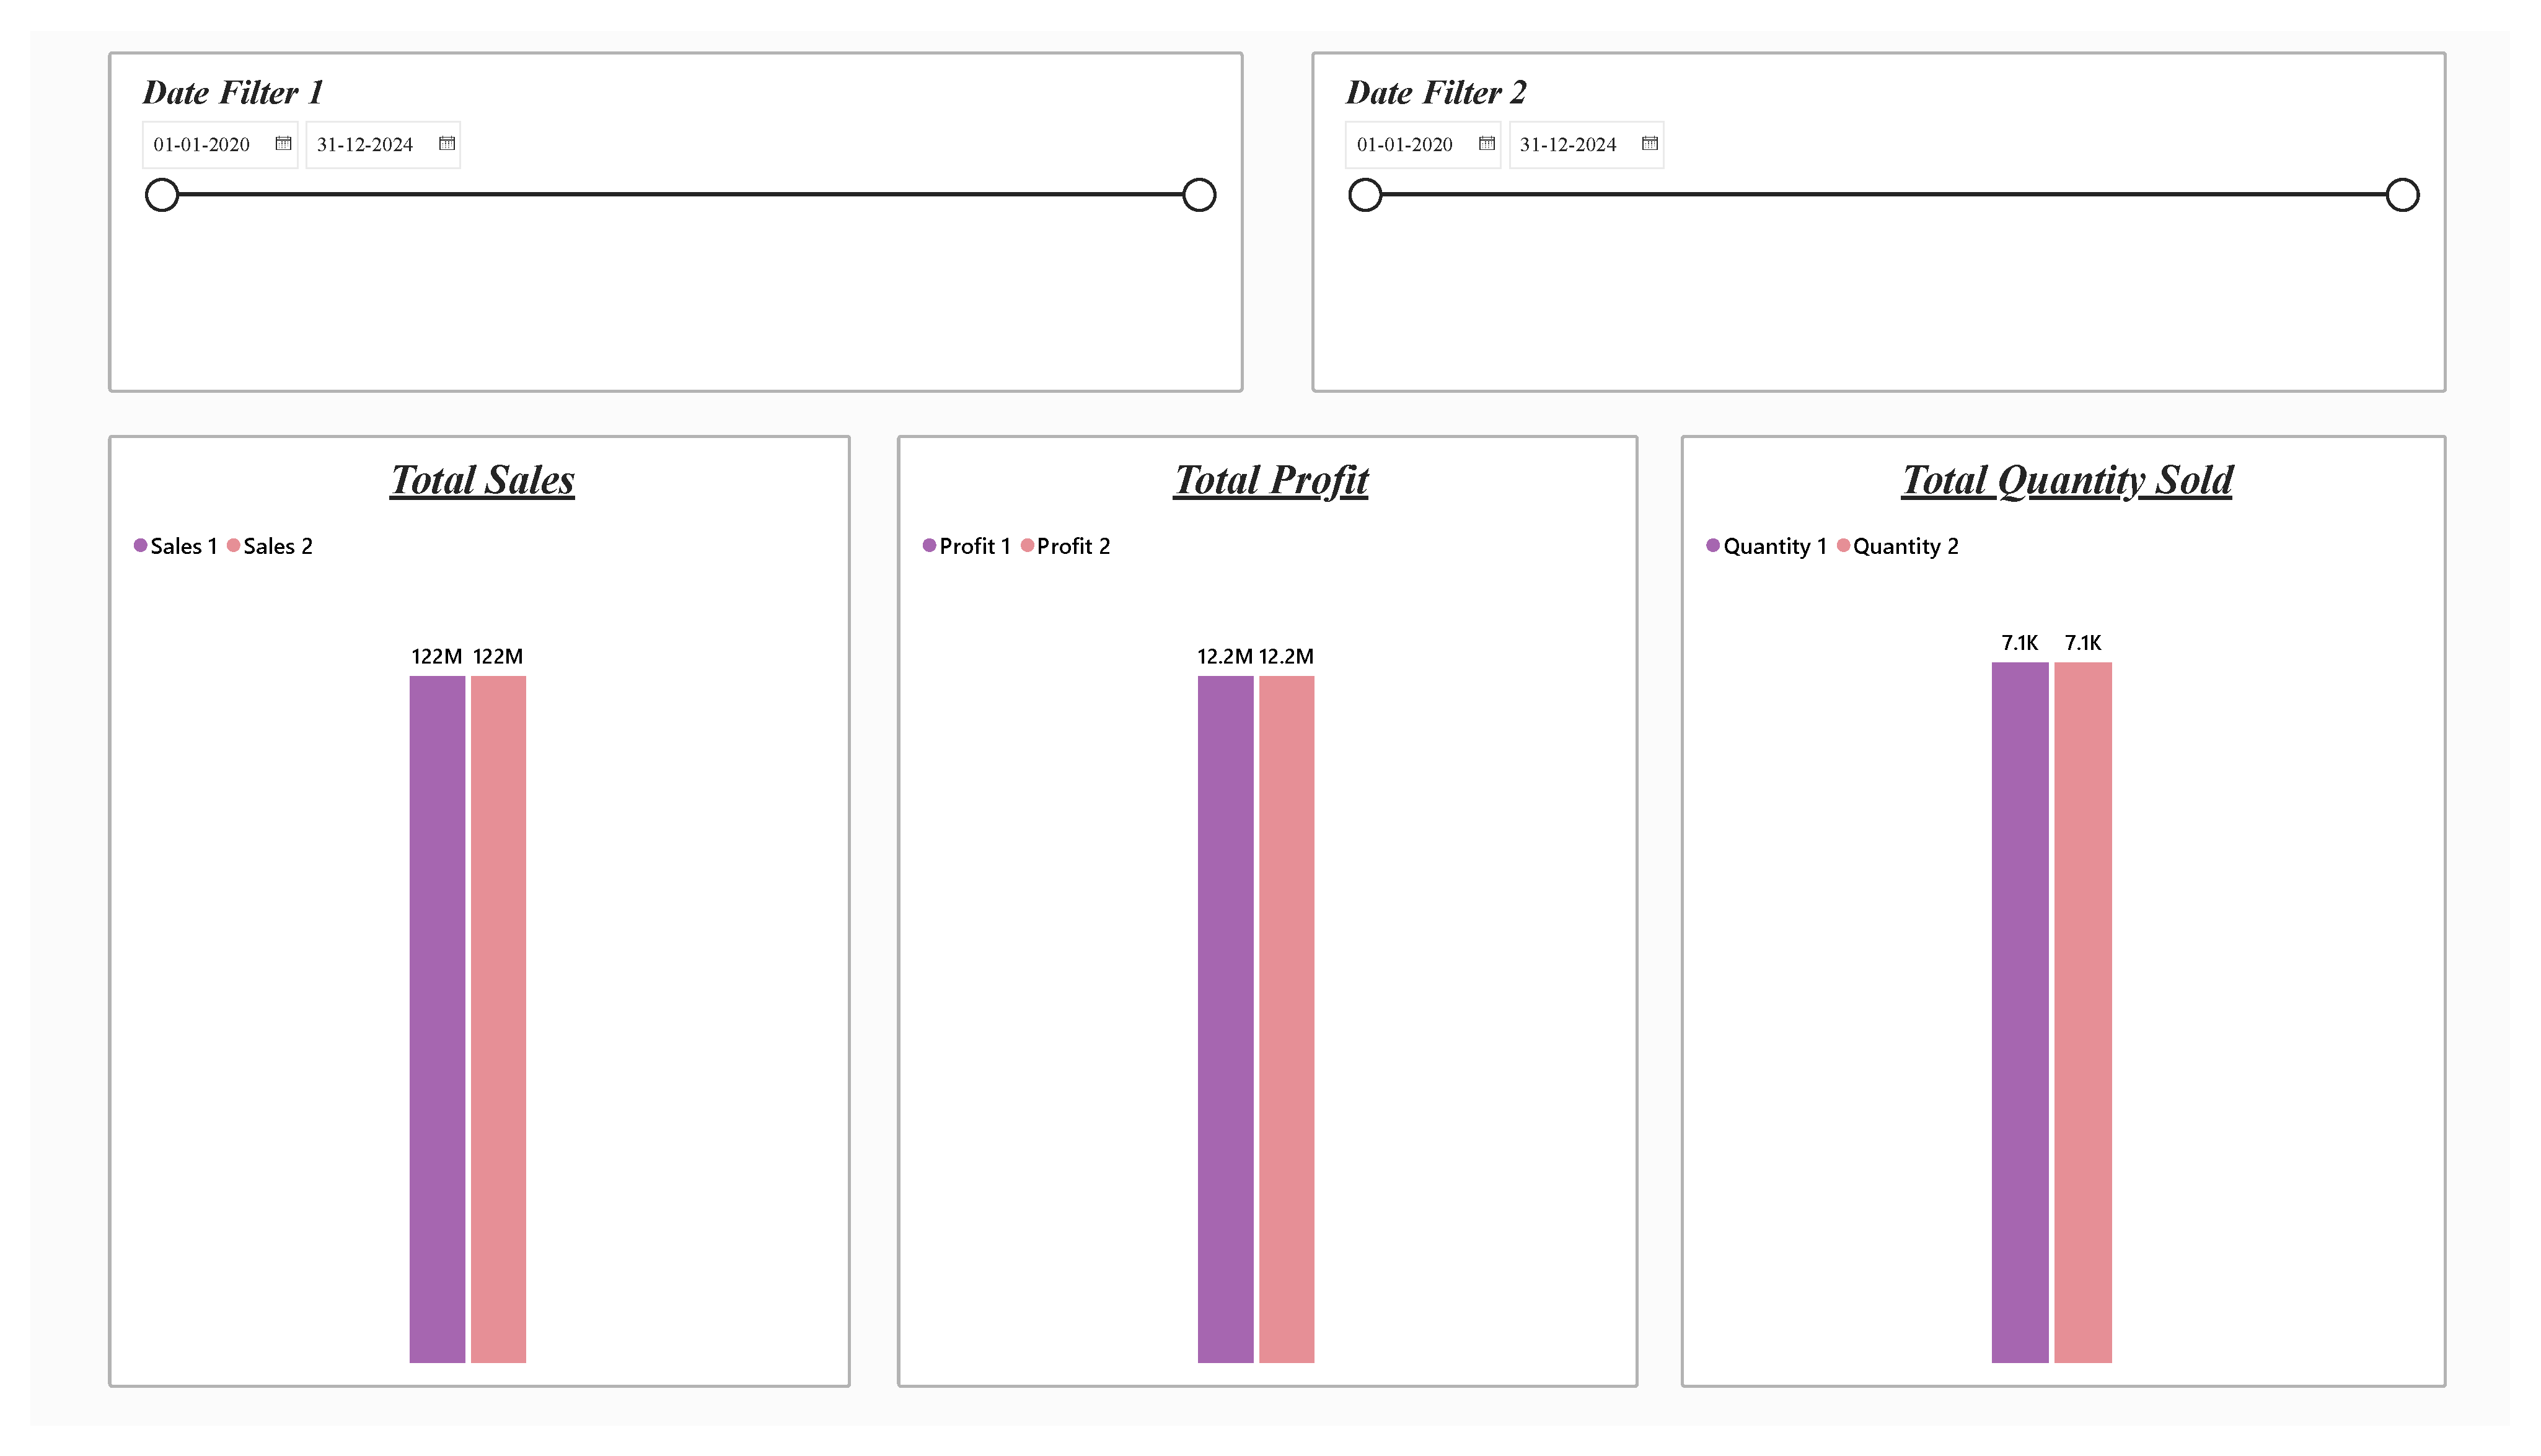

Layout of this report page (visuals, bound fields, positions):
{"tool":"powerbi","page":{"name":"Comparison Sales/Profit/Quantity","canvas":[1920,1080],"ordinal":2},"visuals":[{"type":"slicer","fields":{"Values":["Date Table 1.Date"]},"box":[59.7,16.3,879.5,264.2],"z":0},{"type":"slicer","fields":{"Values":["Date Table 2.Date"]},"box":[991.7,16.3,879.5,264.2],"z":1000},{"type":"clusteredColumnChart","title":"Total Sales","fields":{"Y":["Sum(Fact Table.Net Sales)","Measures Table.Sum of Net Sales"]},"box":[59.7,313.1,575.5,738.3],"z":2000},{"type":"clusteredColumnChart","title":"Total Profit","fields":{"Y":["Sum(Fact Table.Profit)","Measures Table.Total Profit"]},"box":[671.4,313.1,573.7,738.3],"z":3000},{"type":"clusteredColumnChart","title":"Total Quantity Sold","fields":{"Y":["Sum(Fact Table.Units Sold)","Measures Table.Quantity Sold"]},"box":[1277.6,313.1,593.6,738.3],"z":4000}]}

Visuals, with their boxes on the page's 1920x1080 design canvas (x1, y1, x2, y2). These are canvas units, not pixel positions in the 2541x1456 screenshot, which may show the page scaled, cropped or inside an application window:
slicer - Date Table 1.Date: [60, 16, 939, 280]
slicer - Date Table 2.Date: [992, 16, 1871, 280]
"Total Sales" clusteredColumnChart: [60, 313, 635, 1051]
"Total Profit" clusteredColumnChart: [671, 313, 1245, 1051]
"Total Quantity Sold" clusteredColumnChart: [1278, 313, 1871, 1051]
